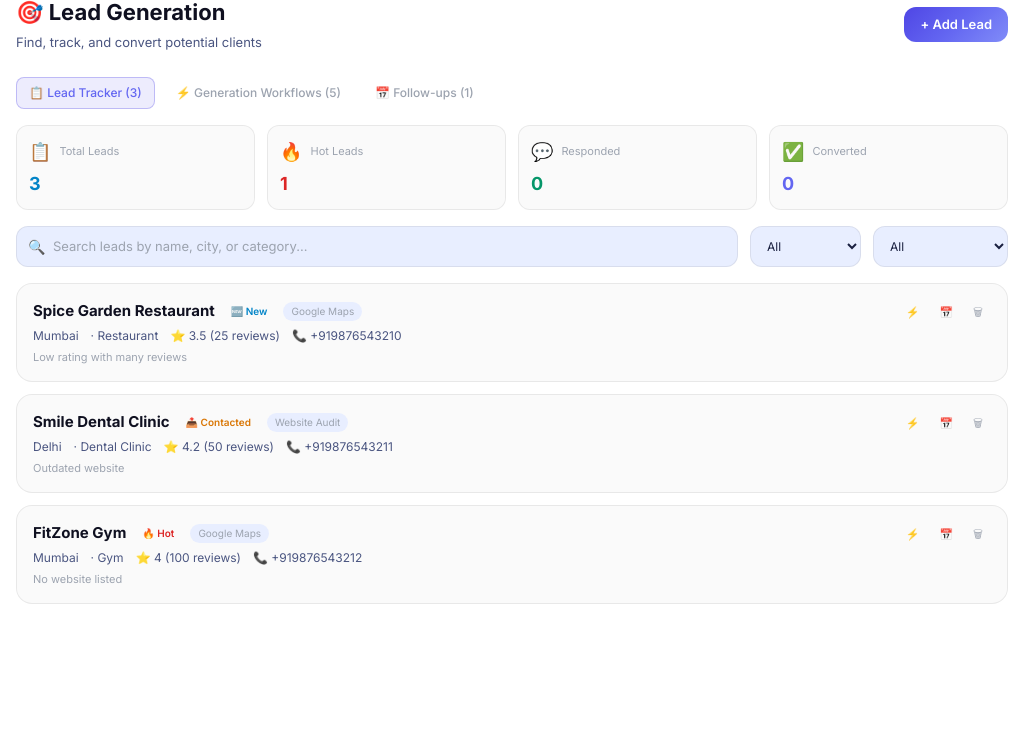
Test case: LeadsTab › lead workflows › displays all workflow types
Click the button "⚡ Generation Workflows (5)".
click(258, 92)  # box left=163, top=76, right=354, bottom=108
(page scrolled)
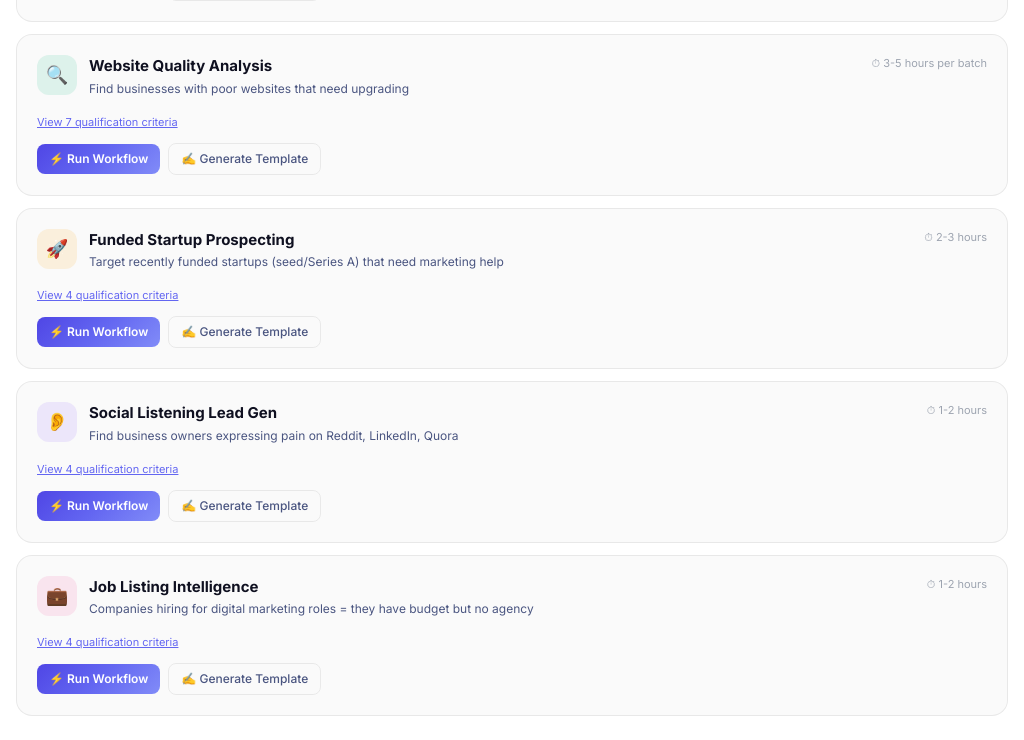
Expected: the heading "Website Quality Analysis" is shown, left=89, top=56, right=272, bottom=75
Expected: the heading "Funded Startup Prospecting" is shown, left=89, top=230, right=294, bottom=248
Expected: the heading "Social Listening Lead Gen" is shown, left=89, top=403, right=277, bottom=422
